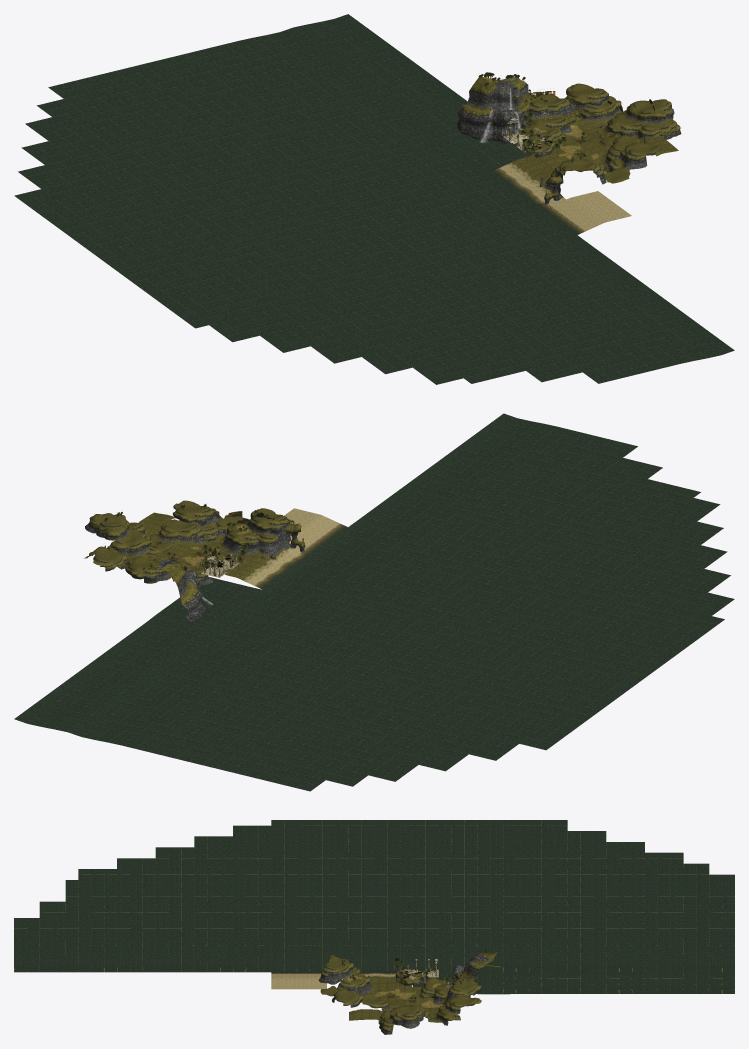
Rendered from map_E01_01.glb.
3 renders of one model, top to bottom at view 1: azimuth 30°, elevation 25°; view 2: azimuth 150°, elevation 25°; view 3: azimuth 270°, elevation 25°, orthographic. The views are drawn at different scales.
Visible parts, largest first — view 1: FM_E01_ground01_AAA; view 2: FM_E01_ground01_AAA; view 3: FM_E01_ground01_AAA.
Boxes of the visible parts, left/top/right/bottom form: FM_E01_ground01_AAA: left=14, top=14, right=734, bottom=384; FM_E01_ground01_AAA: left=14, top=413, right=734, bottom=791; FM_E01_ground01_AAA: left=14, top=820, right=734, bottom=1034.
Bounding box in the file's own units: 557 × 49.94 × 756.
60 materials, 60 textured.
